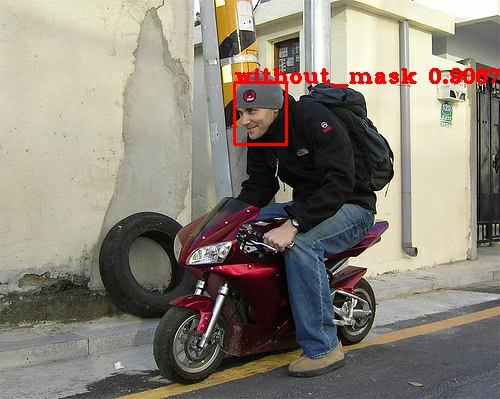without_mask: (233, 97, 279, 141)
